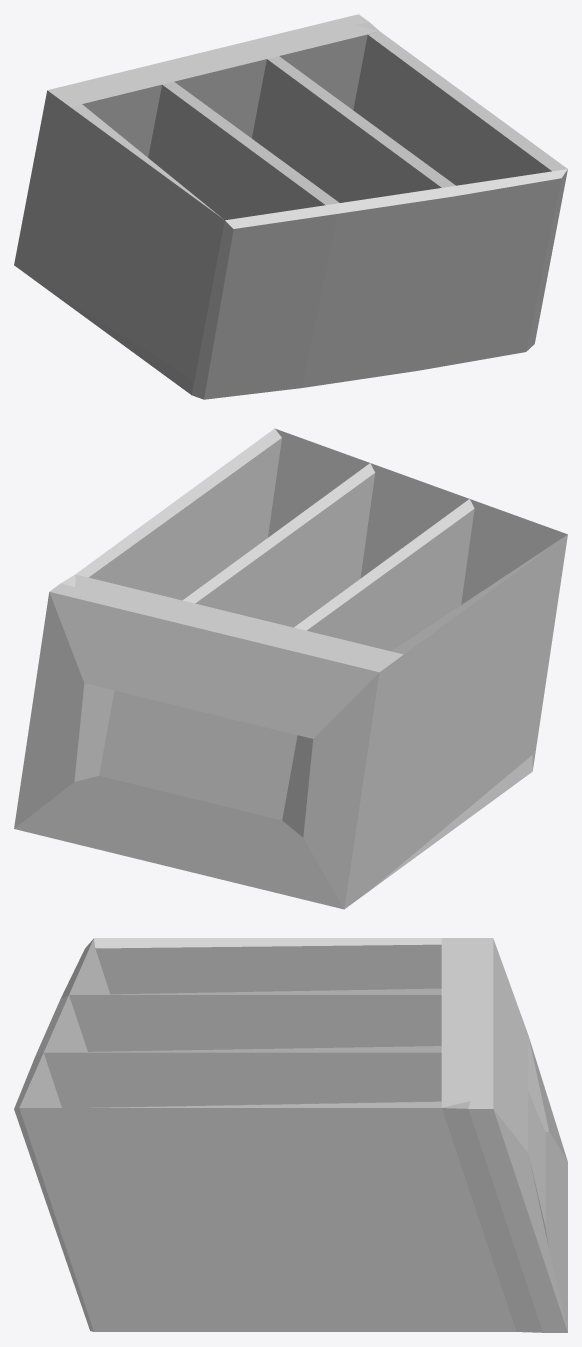
File: washing_machine_filling_machine.fbx
The picture shows the model from 3 angles, top to bottom: view 1: azimuth 30°, elevation 25°; view 2: azimuth 150°, elevation 25°; view 3: azimuth 270°, elevation 25°; orthographic projection. The views are drawn at different scales.
Parts seen in each view (by area): view 1: washing_machine_filling_machine_Baked; view 2: washing_machine_filling_machine_Baked; view 3: washing_machine_filling_machine_Baked.
Boxes of the visible parts, x1,y1,x2,y2 form: washing_machine_filling_machine_Baked: (14,14,567,399); washing_machine_filling_machine_Baked: (14,428,567,909); washing_machine_filling_machine_Baked: (14,938,567,1332).
Bounding box in the file's own units: 16.25 × 10.22 × 22.28.
Materials: 1 (1 with a texture image).
